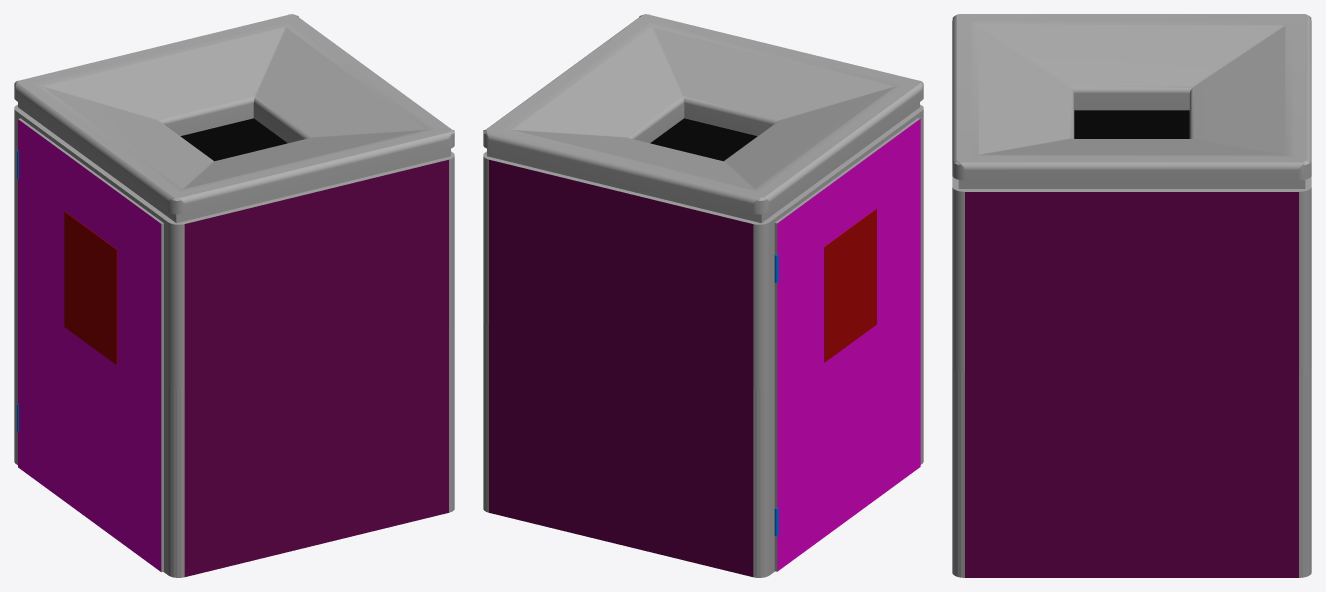
The model's file is bin2.fbx.
The picture shows the model from 3 angles, left to right: view 1: azimuth 30°, elevation 25°; view 2: azimuth 150°, elevation 25°; view 3: azimuth 270°, elevation 25°; orthographic projection. The views are drawn at different scales.
Parts seen in each view (by area): view 1: bin2; view 2: bin2; view 3: bin2.
Part boxes in pixels (x1,y1,x2,y2): bin2: (14, 14, 454, 577); bin2: (483, 14, 923, 577); bin2: (952, 14, 1311, 577).
Bounding box in the file's own units: 112 × 141 × 111.
